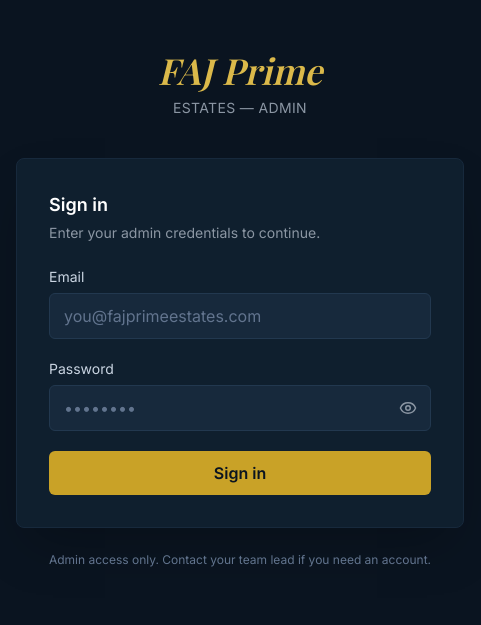
Scenario: Login page › shows a friendly message when the server is completely unreachable, not a raw browser error
The image size is (481, 625).
Type "admin@example.com" into the field labelled "Email" at (240, 316), box top-left (49, 293), bottom-right (431, 339)
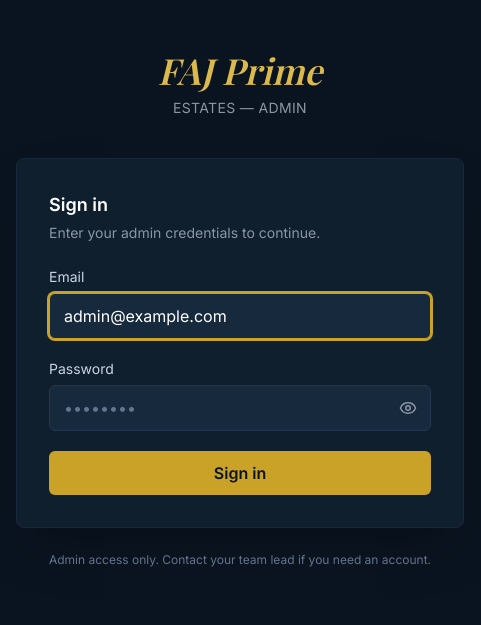
Type "anypassword" into the password field labelled "Password" at (240, 408), box top-left (49, 385), bottom-right (431, 431)
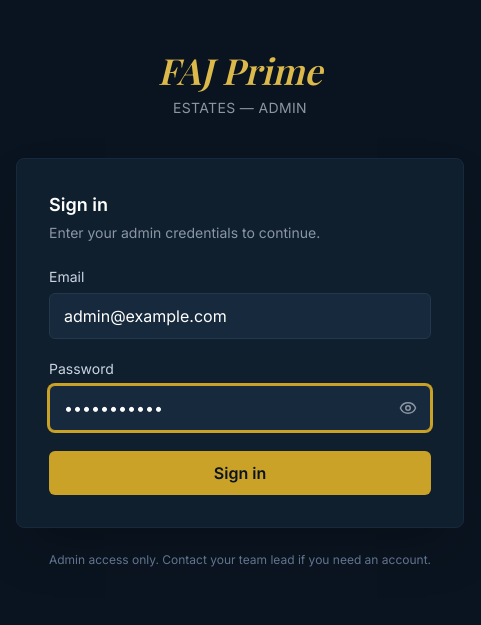
Click the button "Sign in" at (240, 473), box top-left (49, 451), bottom-right (431, 495)
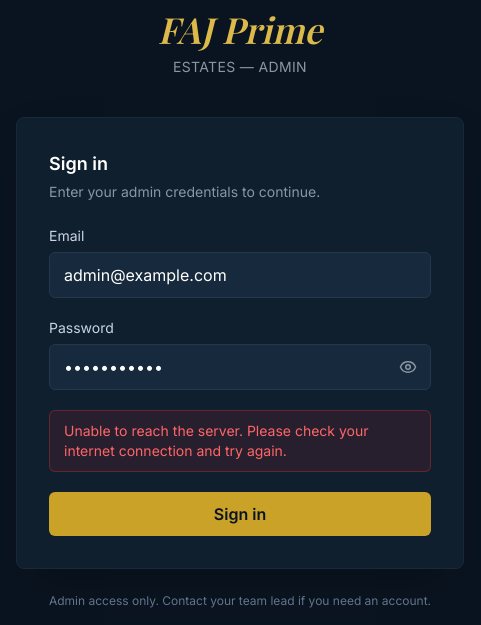
Check: the text "Unable to reach the server. Please check your internet connection and try again." is shown, box top-left (64, 421), bottom-right (416, 461)
